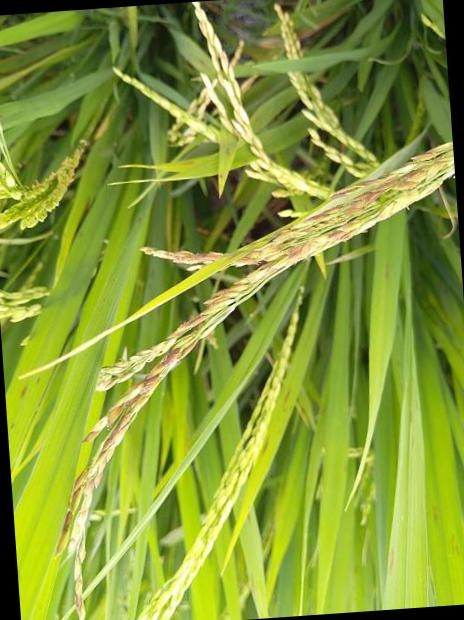Panicle Blight: (56, 414, 130, 555), (408, 140, 454, 164), (331, 178, 378, 199), (207, 282, 252, 302), (391, 168, 428, 190), (350, 188, 388, 208), (307, 203, 343, 222), (172, 252, 224, 265), (174, 314, 209, 331), (326, 223, 356, 242), (272, 224, 300, 244), (138, 371, 162, 394), (374, 173, 404, 191), (285, 241, 313, 260), (125, 395, 152, 413), (106, 402, 125, 427), (75, 562, 83, 618), (160, 348, 182, 367), (229, 253, 260, 265), (199, 302, 227, 315), (258, 260, 279, 277), (341, 205, 366, 217), (167, 331, 188, 339)
